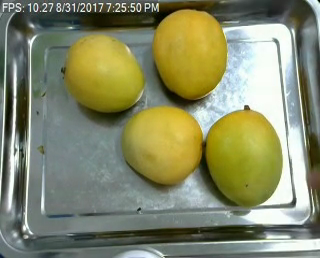Mango: (206, 108, 281, 207), (151, 10, 226, 99), (60, 35, 143, 112), (122, 106, 203, 182)
